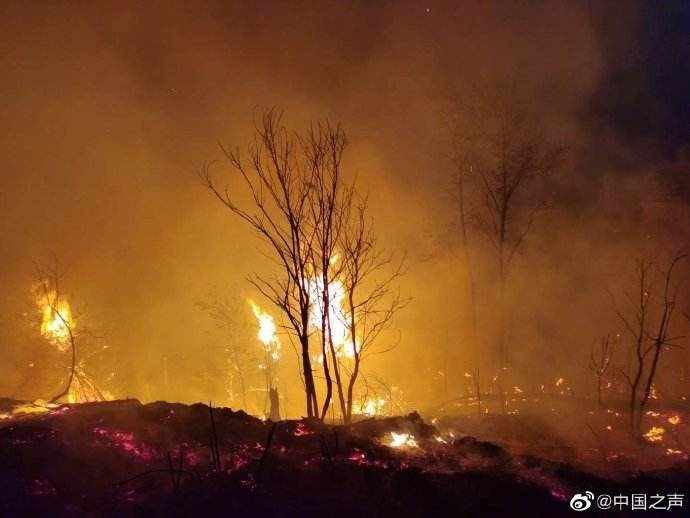fire: (295, 247, 365, 362), (31, 277, 77, 355), (245, 296, 282, 361), (641, 407, 684, 449), (349, 391, 388, 420), (381, 428, 418, 451)
